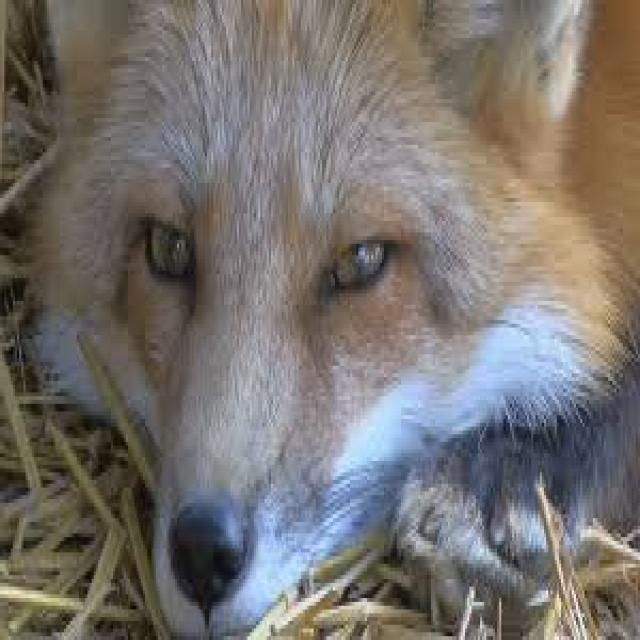fox: (34, 0, 640, 632)
